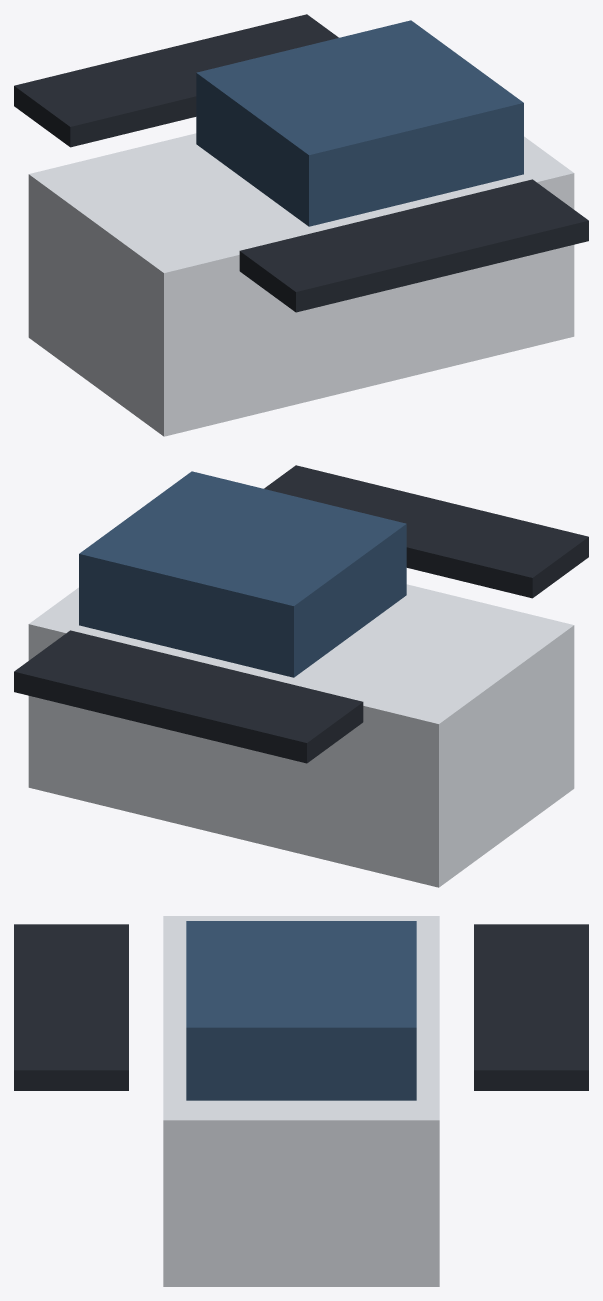
Rendered from flying_car.glb.
The picture shows the model from 3 angles, top to bottom: view 1: azimuth 30°, elevation 25°; view 2: azimuth 150°, elevation 25°; view 3: azimuth 270°, elevation 25°; orthographic projection.
Visible parts, largest first — view 1: Cabin, Canopy, RotorL, RotorR; view 2: Cabin, Canopy, RotorR, RotorL; view 3: Cabin, Canopy, RotorL, RotorR.
Part boxes in pixels (x1,y1,x2,y2): Cabin: (28,133,574,436); Canopy: (196,20,523,226); RotorL: (239,179,588,312); RotorR: (14,14,338,147); Cabin: (28,584,574,887); Canopy: (79,471,406,677); RotorR: (14,630,363,763); RotorL: (264,465,588,598); Cabin: (163,916,439,1286); Canopy: (186,921,416,1100); RotorL: (14,924,128,1090); RotorR: (474,924,588,1090).
Bounding box in the file's own units: 0.42 × 0.25 × 0.5.
